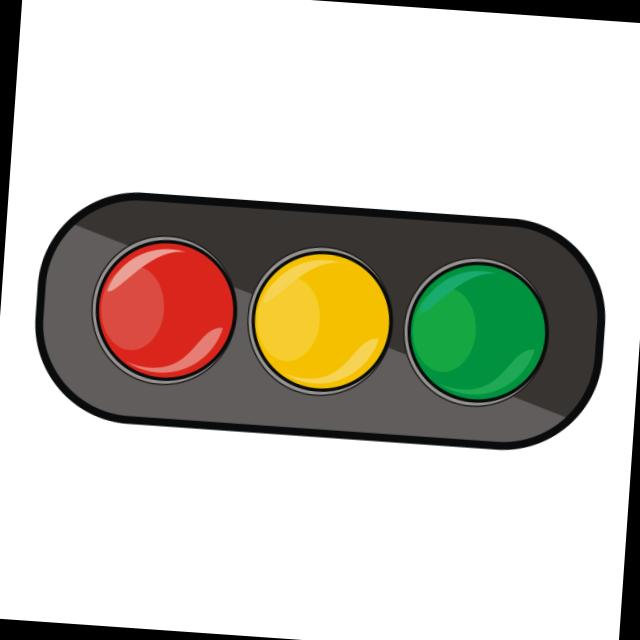green-lights: (402, 238, 556, 419)
red-lights: (72, 234, 238, 392)
yellow-lights: (243, 228, 397, 398)
